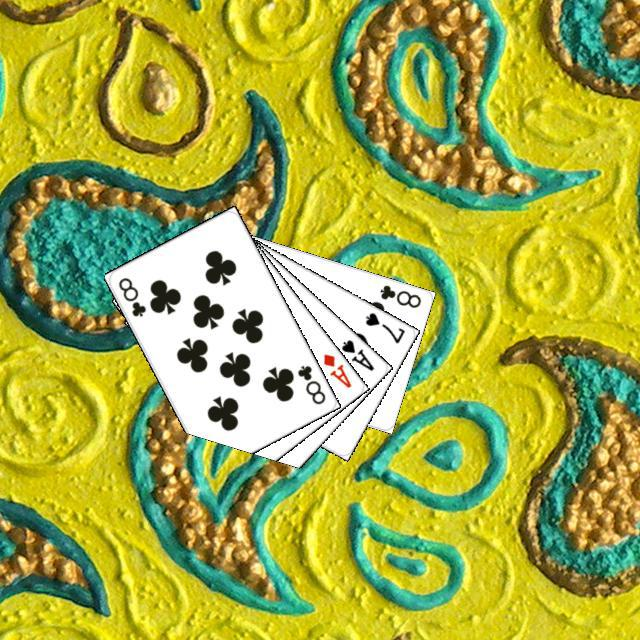7s: (360, 307, 406, 345)
8c: (113, 272, 148, 319), (292, 360, 327, 406), (375, 280, 423, 310)
Ad: (318, 349, 353, 390)
As: (336, 335, 376, 373)
